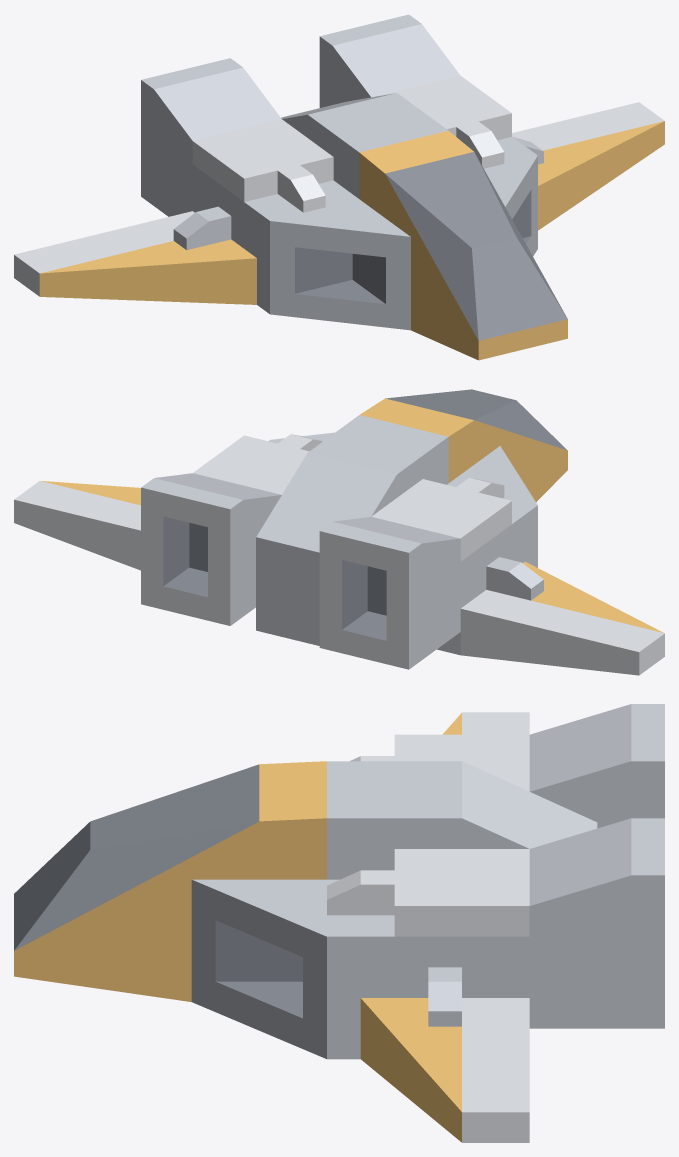
The model's file is ship.gltf.
The picture shows the model from 3 angles, top to bottom: view 1: azimuth 30°, elevation 25°; view 2: azimuth 150°, elevation 25°; view 3: azimuth 270°, elevation 25°; orthographic projection. The views are drawn at different scales.
Visible parts, largest first — view 1: craft_speederC; view 2: craft_speederC; view 3: craft_speederC.
Boxes of the visible parts, <box> form: craft_speederC: <box>14,14,664,360</box>; craft_speederC: <box>14,389,664,675</box>; craft_speederC: <box>14,704,664,1142</box>.
Size of the model in its own units: 2.8 by 0.6 by 1.93.
